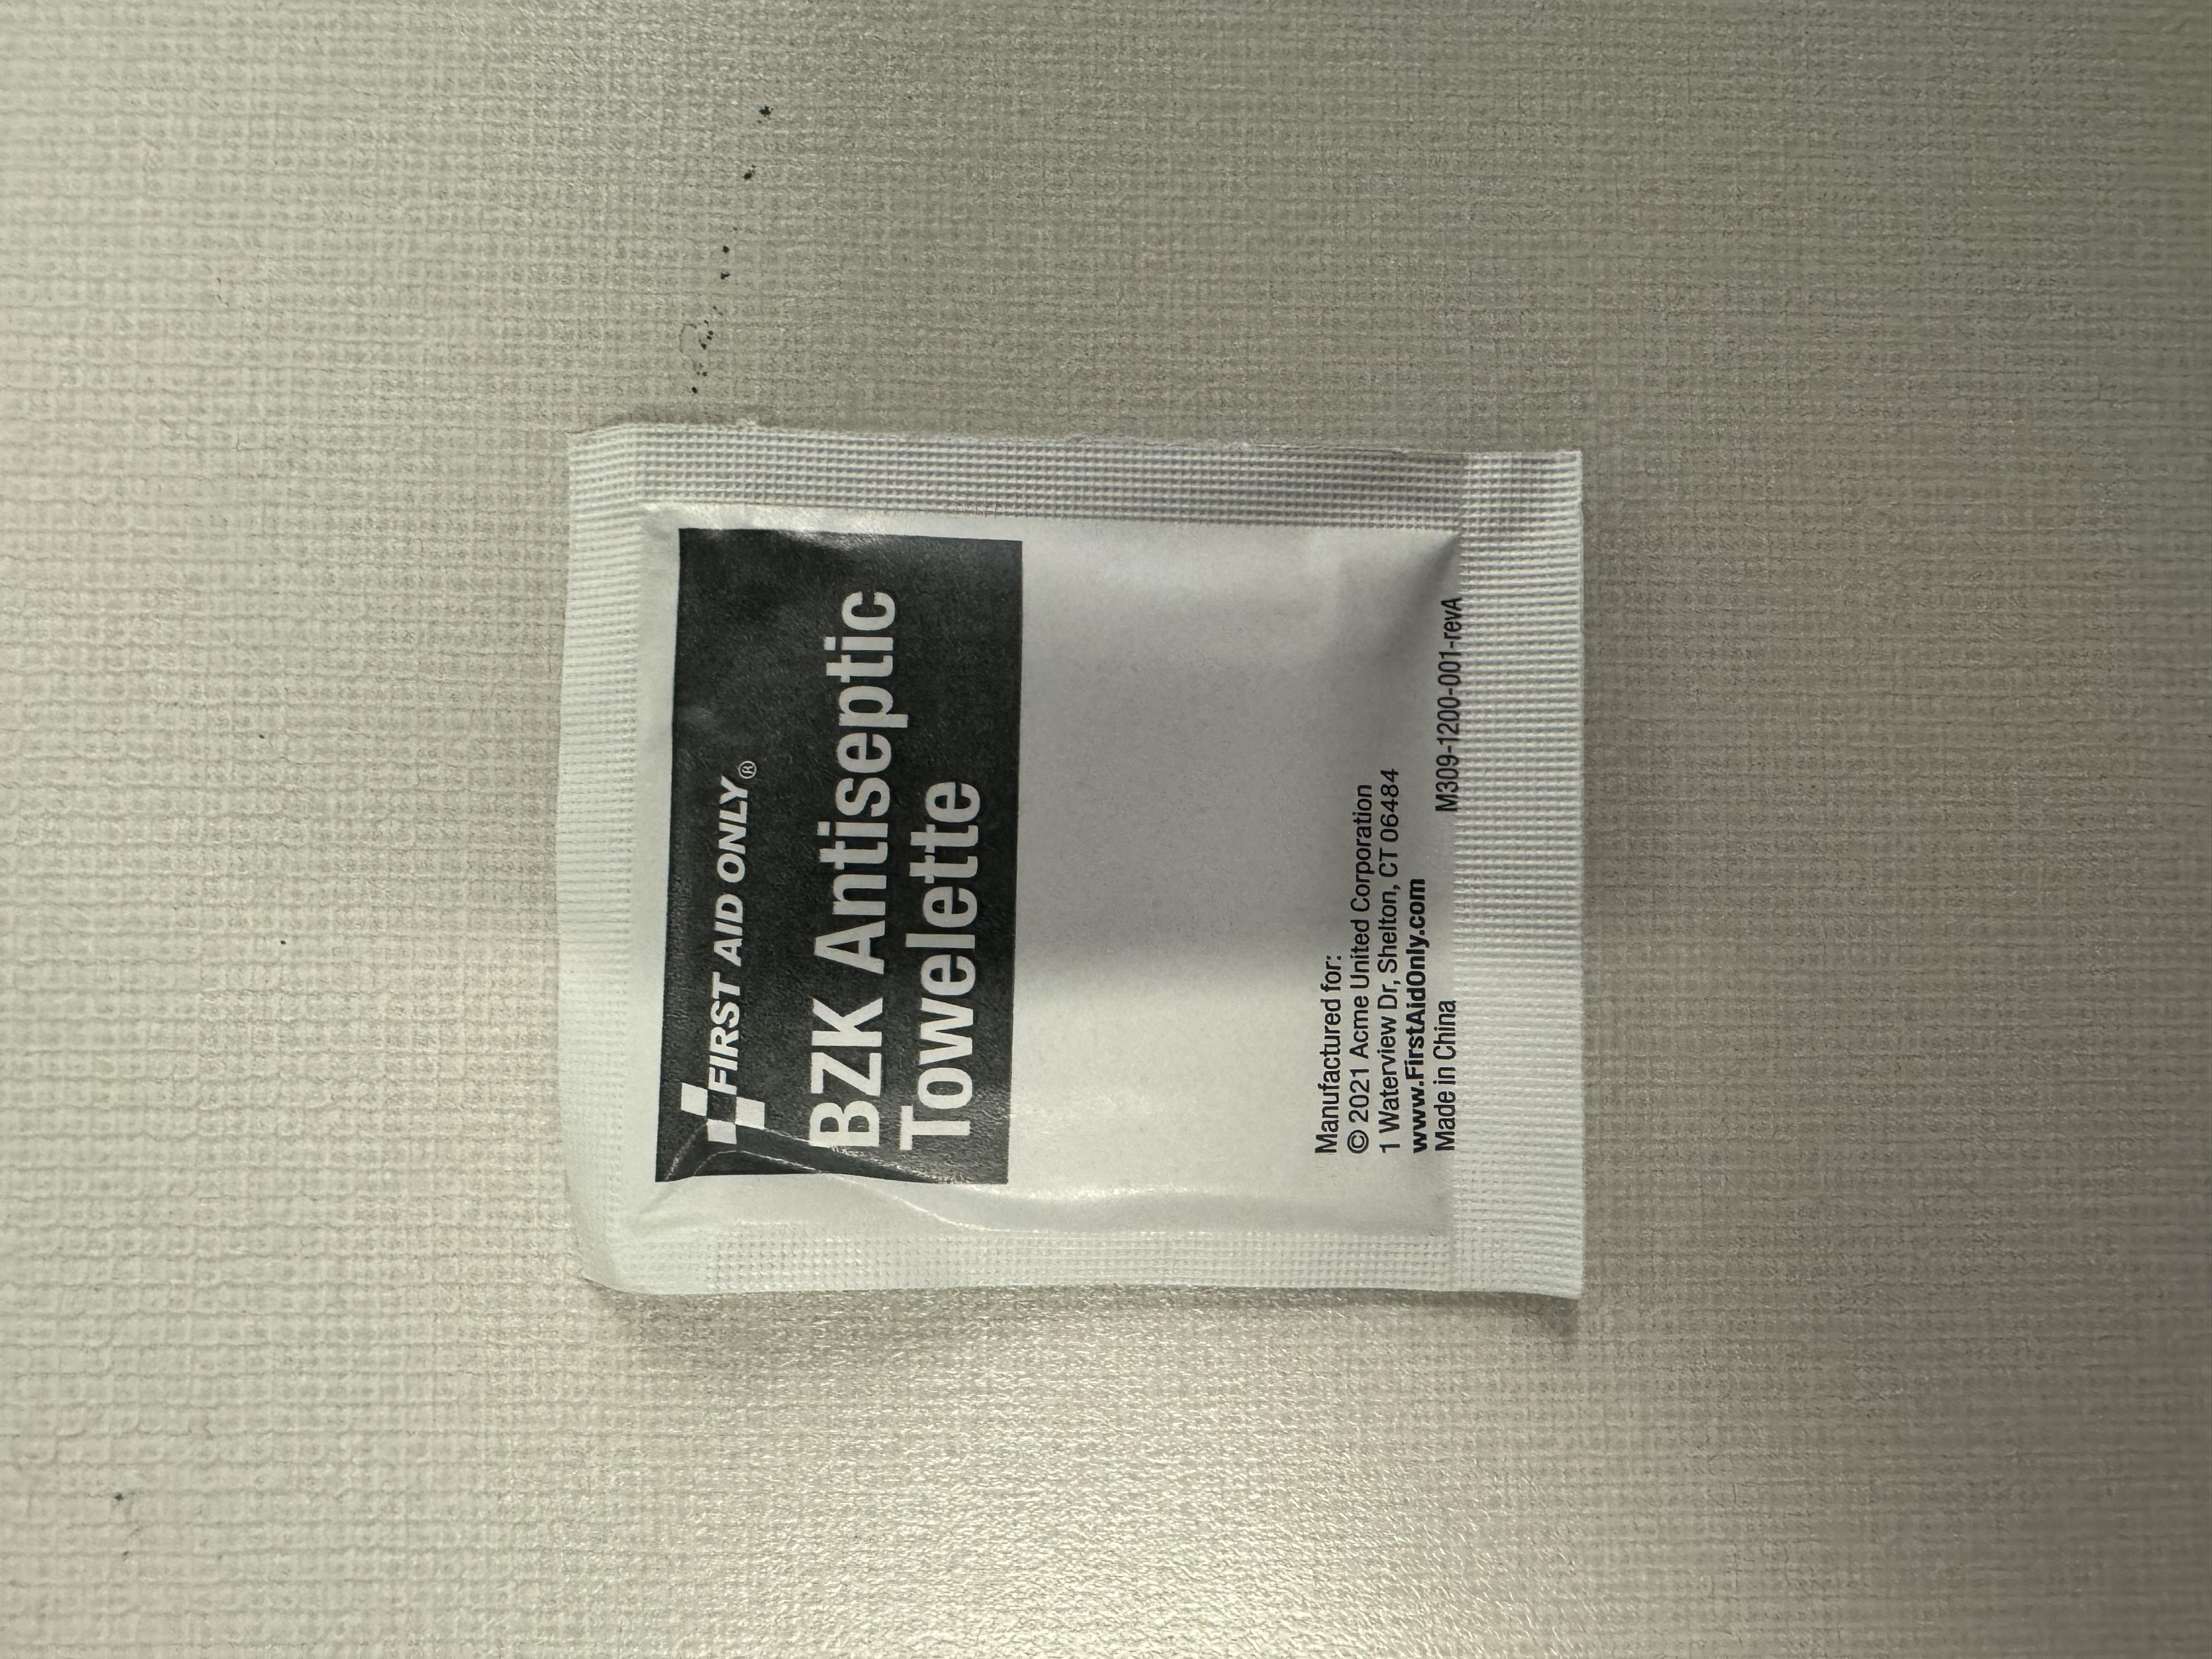antiseptic wipe: (536, 205, 1706, 1355)
